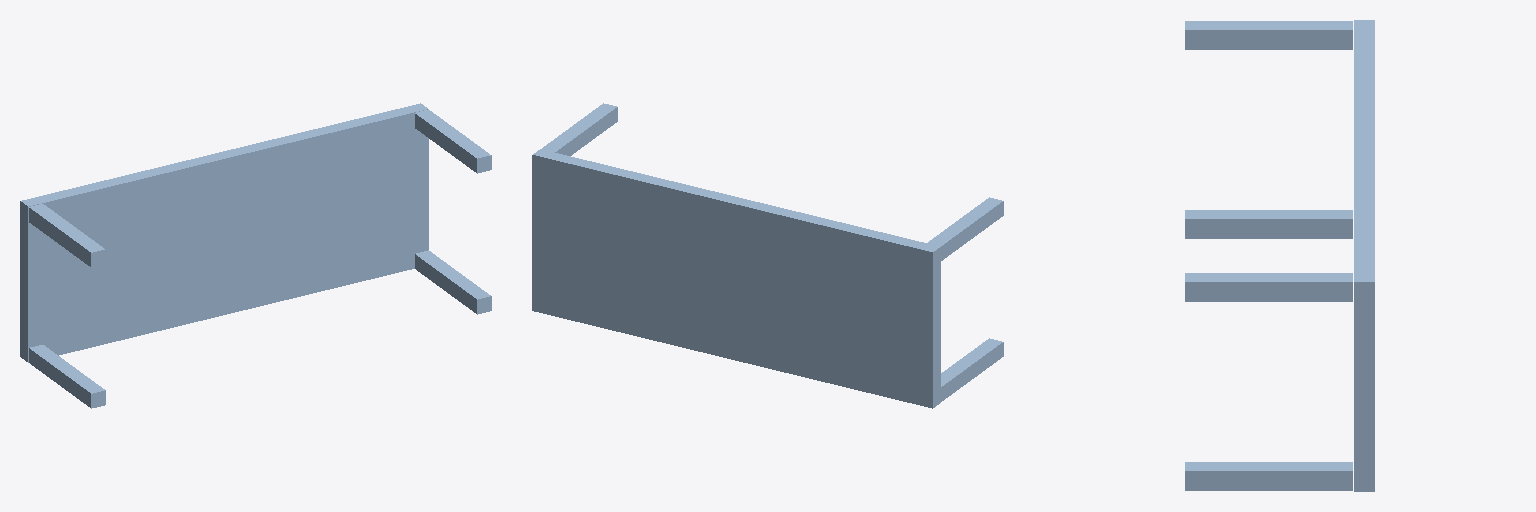
robot.urdf — widetable_plan5_preflight:
<?xml version="1.0" ?>
<robot name="widetable_plan5_preflight">
  <dynamics damping="0.5" friction="0.9"/>
  <material name="widetable_material">
    <color rgba="0.7 0.8 0.9 0.7"/>
  </material>
  <link name="widetable_link">
    <!--
      Plan 5 mechanics-preflight asset only. It keeps the frozen A1 table's
      0.1 kg total mass while using the wide-table five-box geometry. COM and
      inertia are the uniformly dense 1 kg preflight values scaled by 0.1.
      This asset reproduces the frozen dual-A1 action-trace audit; it is not the
      final MARL training table.
    -->
    <inertial>
      <mass value="0.1"/>
      <origin rpy="0 0 0" xyz="0 0.015111745244133 0"/>
      <inertia
        ixx="0.0031387487608351"
        ixy="0"
        ixz="0"
        iyy="0.0218020759603284"
        iyz="0"
        izz="0.0197524457212314"
      />
    </inertial>
    <contact>
      <lateral_friction value="0.9"/>
      <rolling_friction value="0.5"/>
      <stiffness value="30000"/>
      <damping value="1000"/>
    </contact>

    <visual name="widetable_tabletop">
      <origin rpy="0 0 0" xyz="0 0.036275 0"/>
      <geometry>
        <box size="1.4 0.04745 0.5219528"/>
      </geometry>
      <material name="widetable_material"/>
    </visual>
    <collision name="widetable_tabletop">
      <origin rpy="0 0 0" xyz="0 0.036275 0"/>
      <geometry>
        <box size="1.4 0.04745 0.5219528"/>
      </geometry>
    </collision>

    <visual name="widetable_leg_neg_x_neg_z">
      <origin rpy="0 0 0" xyz="-0.6742736 -0.17835 -0.23525"/>
      <geometry>
        <box size="0.05 0.3793 0.05"/>
      </geometry>
      <material name="widetable_material"/>
    </visual>
    <collision name="widetable_leg_neg_x_neg_z">
      <origin rpy="0 0 0" xyz="-0.6742736 -0.17835 -0.23525"/>
      <geometry>
        <box size="0.05 0.3793 0.05"/>
      </geometry>
    </collision>

    <visual name="widetable_leg_neg_x_pos_z">
      <origin rpy="0 0 0" xyz="-0.6742736 -0.17835 0.23525"/>
      <geometry>
        <box size="0.05 0.3793 0.05"/>
      </geometry>
      <material name="widetable_material"/>
    </visual>
    <collision name="widetable_leg_neg_x_pos_z">
      <origin rpy="0 0 0" xyz="-0.6742736 -0.17835 0.23525"/>
      <geometry>
        <box size="0.05 0.3793 0.05"/>
      </geometry>
    </collision>

    <visual name="widetable_leg_pos_x_neg_z">
      <origin rpy="0 0 0" xyz="0.6742736 -0.17835 -0.23525"/>
      <geometry>
        <box size="0.05 0.3793 0.05"/>
      </geometry>
      <material name="widetable_material"/>
    </visual>
    <collision name="widetable_leg_pos_x_neg_z">
      <origin rpy="0 0 0" xyz="0.6742736 -0.17835 -0.23525"/>
      <geometry>
        <box size="0.05 0.3793 0.05"/>
      </geometry>
    </collision>

    <visual name="widetable_leg_pos_x_pos_z">
      <origin rpy="0 0 0" xyz="0.6742736 -0.17835 0.23525"/>
      <geometry>
        <box size="0.05 0.3793 0.05"/>
      </geometry>
      <material name="widetable_material"/>
    </visual>
    <collision name="widetable_leg_pos_x_pos_z">
      <origin rpy="0 0 0" xyz="0.6742736 -0.17835 0.23525"/>
      <geometry>
        <box size="0.05 0.3793 0.05"/>
      </geometry>
    </collision>
  </link>
</robot>

--- Facts derived from the render (not from the file) ---
The picture shows the robot from 3 angles, left to right: view 1: azimuth 30°, elevation 25°; view 2: azimuth 150°, elevation 25°; view 3: azimuth 270°, elevation 25°; orthographic projection.
Robot: widetable_plan5_preflight — 1 links, 0 joints (none); root link widetable_link; default pose: all joints at 0.
Visible links, largest first — view 1: widetable_link; view 2: widetable_link; view 3: widetable_link.
Link boxes in pixels (x1=…): widetable_link: x1=20, y1=103, x2=491, y2=408; widetable_link: x1=532, y1=103, x2=1003, y2=408; widetable_link: x1=1185, y1=20, x2=1374, y2=491.
Size in the robot's own frame: 1.4 by 0.428 by 0.522 metres.
Geometry: primitives only (box / cylinder / sphere), no mesh files.
